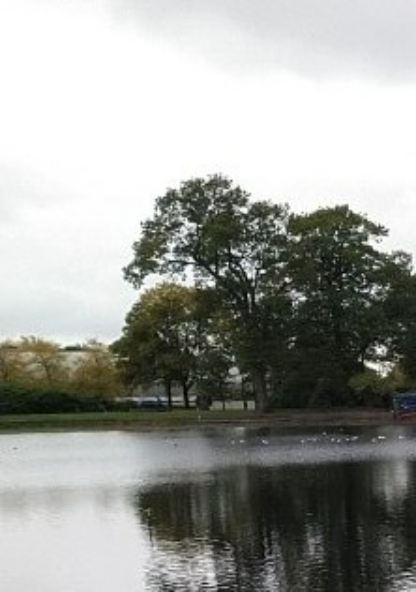tree: (136, 146, 289, 426), (295, 172, 407, 427)
